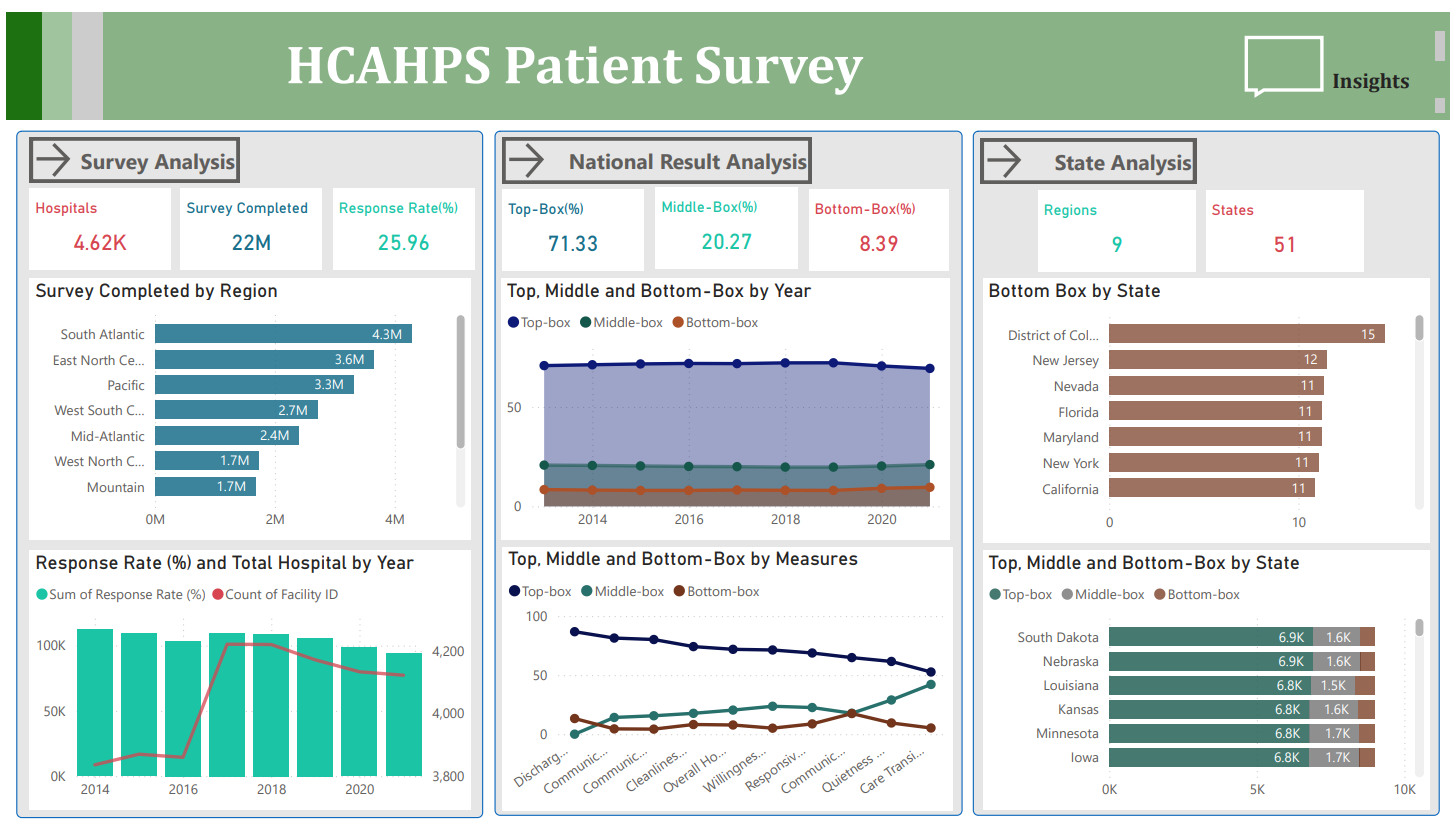

What the dashboard file says about the page in this screenshot:
{"tool":"powerbi","page":{"name":"Report","canvas":[1280,720],"ordinal":0},"visuals":[{"type":"shape","box":[8.6,105.2,414.5,609],"z":0},{"type":"shape","box":[433,105.2,414.5,606.5],"z":1000},{"type":"shape","box":[857.2,105.2,413.3,606.5],"z":2000},{"type":"barChart","title":"Survey Completed by Region","fields":{"Y":["Sum(responses.Completed Surveys)"],"Category":["states.Region"]},"box":[20.8,236,391.3,232],"z":3000},{"type":"lineStackedColumnComboChart","title":"Response Rate (%) and Total Hospital by Year","fields":{"Y":["Sum(responses.Response Rate (%))"],"Y2":["CountNonNull(responses.Facility ID)"],"Category":["reports.Start Date.Variation.Date Hierarchy.Year"]},"box":[20.8,477,391.3,230],"z":4000},{"type":"card","title":"Hospitals","fields":{"Values":["Count(responses.Facility ID)"]},"box":[20.8,156,125,72],"z":5000},{"type":"card","title":"Survey Completed","fields":{"Values":["Sum(responses.Completed Surveys)"]},"box":[155,156,125,72],"z":6000},{"type":"card","title":"Response Rate(%)","fields":{"Values":["Avg(responses.Response Rate (%))"]},"box":[290,156,125,72],"z":7000},{"type":"areaChart","title":"Top, Middle and Bottom-Box by Year","fields":{"Category":["reports.Start Date.Variation.Date Hierarchy.Year"],"Y":["Avg(state_results.Top-box Percentage)","Avg(state_results.Middle-box Percentage)","Avg(state_results.Bottom-box Percentage)"]},"box":[439,236,398,232.3],"z":8000},{"type":"barChart","title":"Bottom Box by State","fields":{"Y":["Avg(state_results.Bottom-box Percentage)"],"Category":["states.State Name"]},"box":[866,236,396,234],"z":9000},{"type":"barChart","title":"Top, Middle and Bottom-Box by State","fields":{"Y":["Sum(state_results.Top-box Percentage)","Sum(state_results.Middle-box Percentage)","Sum(state_results.Bottom-box Percentage)"],"Category":["states.State Name"]},"box":[865.9,477,396.6,230],"z":10000},{"type":"lineChart","title":"Top, Middle and Bottom-Box by Measures","fields":{"Category":["measures (2).Measure"],"Y":["Avg(state_results.Top-box Percentage)","Avg(state_results.Middle-box Percentage)","Avg(state_results.Bottom-box Percentage)"]},"box":[440.2,474.5,398.6,232.3],"z":11000},{"type":"card","title":"Top-Box(%)","fields":{"Values":["Avg(state_results.Top-box Percentage)"]},"box":[440.2,156.5,124.7,72.1],"z":12000},{"type":"card","title":"Middle-Box(%)","fields":{"Values":["Avg(state_results.Middle-box Percentage)"]},"box":[576,155.3,126,72.1],"z":13000},{"type":"card","title":"Bottom-Box(%)","fields":{"Values":["Avg(state_results.Bottom-box Percentage)"]},"box":[711.7,156.5,124.7,72.1],"z":14000},{"type":"actionButton","box":[20.8,111,185.9,40.4],"z":15000},{"type":"actionButton","box":[440.2,111.3,273.9,40.4],"z":16000},{"type":"actionButton","box":[864,112,190.8,40.4],"z":17000},{"type":"card","title":"Regions","fields":{"Values":["Count(states.Region)"]},"box":[914.7,157.7,140.6,72.1],"z":18000},{"type":"card","title":"States","fields":{"Values":["Count(states.State Name)"]},"box":[1063.9,157.7,140.6,72.1],"z":19000},{"type":"textbox","box":[0,0,1280.3,95.4],"z":20000},{"type":"shape","box":[0,0,31.8,95.4],"z":21000},{"type":"shape","box":[31.8,0,26.9,95.4],"z":22000},{"type":"shape","box":[58.7,0,26.9,95.4],"z":23000},{"type":"shape","box":[1098.1,20.8,69.7,55],"z":24000},{"type":"textbox","box":[1171.5,44,108.8,31.8],"z":25000}]}

Visuals, with their boxes in screenshot pixels (x1, y1, x2, y2), scaled from the page's 1280x720 canvas onto the 1453x827 screenshot:
shape: locate(10, 121, 480, 820)
shape: locate(492, 121, 962, 817)
shape: locate(973, 121, 1442, 817)
"Survey Completed by Region" barChart: locate(24, 271, 468, 538)
"Response Rate (%) and Total Hospital by Year" lineStackedColumnComboChart: locate(24, 548, 468, 812)
"Hospitals" card: locate(24, 179, 166, 262)
"Survey Completed" card: locate(176, 179, 318, 262)
"Response Rate(%)" card: locate(329, 179, 471, 262)
"Top, Middle and Bottom-Box by Year" areaChart: locate(498, 271, 950, 538)
"Bottom Box by State" barChart: locate(983, 271, 1433, 540)
"Top, Middle and Bottom-Box by State" barChart: locate(983, 548, 1433, 812)
"Top, Middle and Bottom-Box by Measures" lineChart: locate(500, 545, 952, 812)
"Top-Box(%)" card: locate(500, 180, 641, 263)
"Middle-Box(%)" card: locate(654, 178, 797, 261)
"Bottom-Box(%)" card: locate(808, 180, 949, 263)
actionButton: locate(24, 127, 235, 174)
actionButton: locate(500, 128, 811, 174)
actionButton: locate(981, 129, 1197, 175)
"Regions" card: locate(1038, 181, 1198, 264)
"States" card: locate(1208, 181, 1367, 264)
textbox: locate(0, 0, 1452, 110)
shape: locate(0, 0, 36, 110)
shape: locate(36, 0, 67, 110)
shape: locate(67, 0, 97, 110)
shape: locate(1247, 24, 1326, 87)
textbox: locate(1330, 51, 1452, 87)
